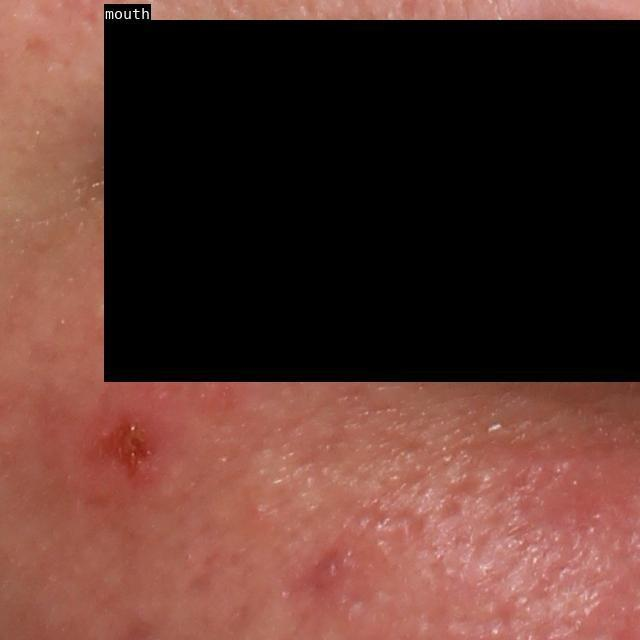papule: (79, 390, 193, 510)
